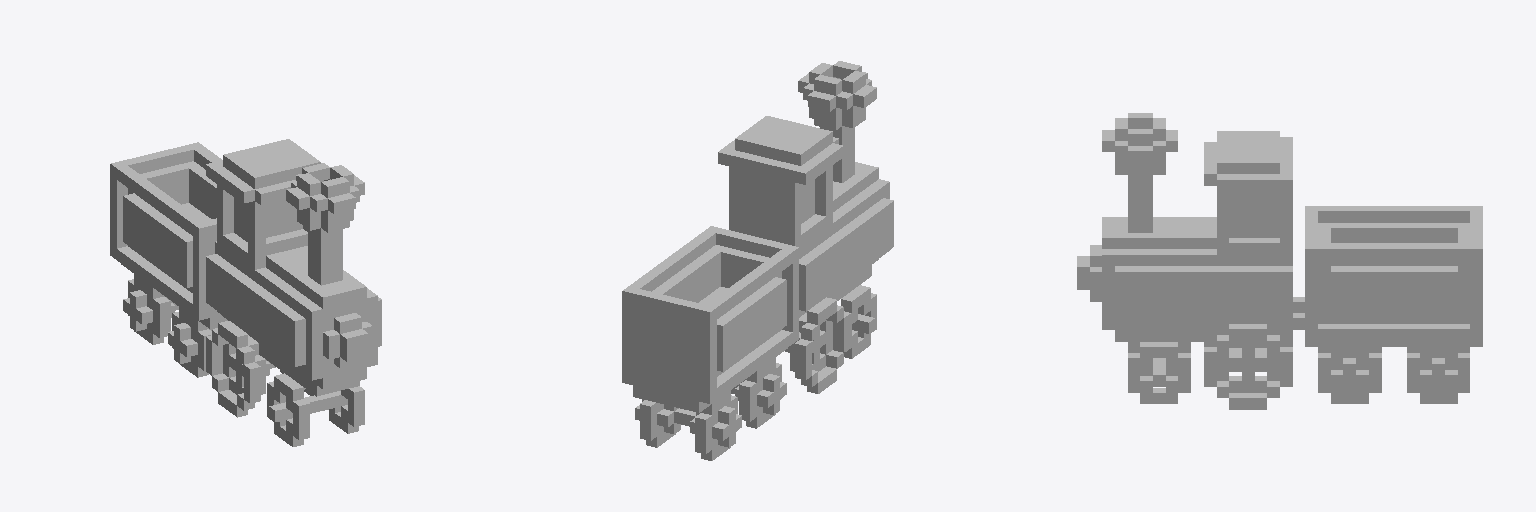
File: new_Train.obj
3 renders of one model, left to right at view 1: azimuth 30°, elevation 25°; view 2: azimuth 150°, elevation 25°; view 3: azimuth 270°, elevation 25°, orthographic.
Visible parts, largest first — view 1: cube; view 2: cube; view 3: cube.
Part boxes in pixels (x1,y1,x2,y2): cube: (110, 139, 381, 446); cube: (622, 61, 893, 460); cube: (1077, 113, 1482, 409).
Bounding box in the file's own units: 0.5 × 1.44 × 2.